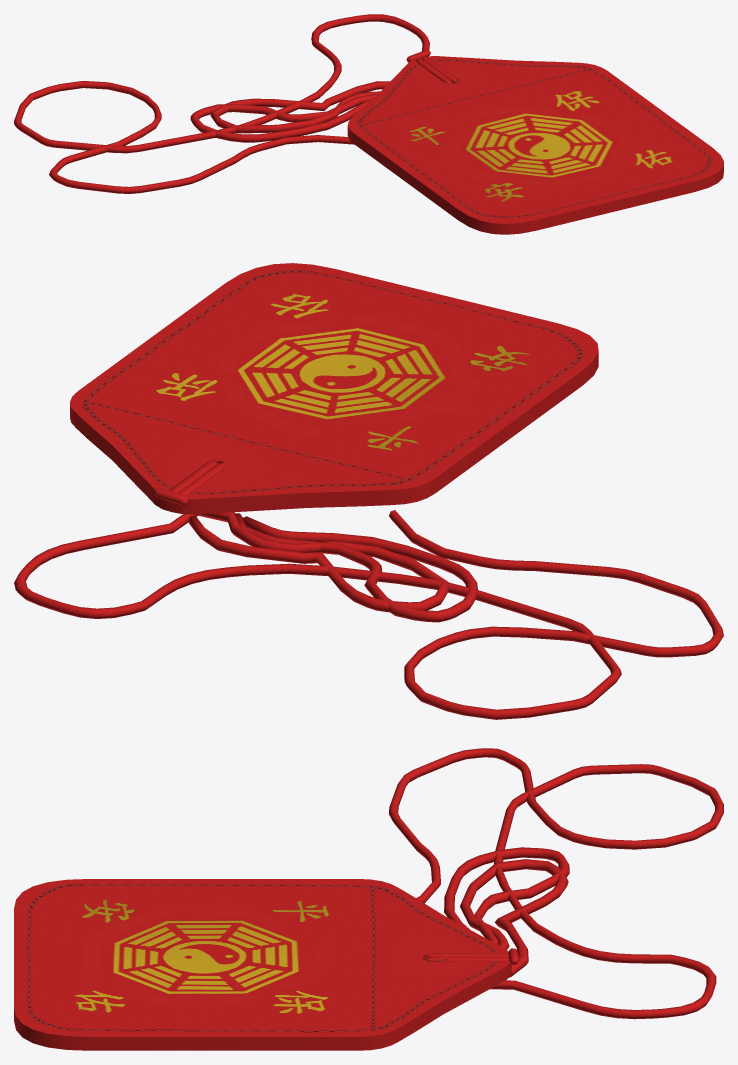
Rendered from amulet.fbx.
The picture shows the model from 3 angles, top to bottom: view 1: azimuth 30°, elevation 25°; view 2: azimuth 150°, elevation 25°; view 3: azimuth 270°, elevation 25°; orthographic projection. The views are drawn at different scales.
Parts seen in each view (by area): view 1: Line001; view 2: Line001; view 3: Line001.
Part boxes in pixels (bbox=[...]): Line001: bbox=[14, 14, 723, 234]; Line001: bbox=[14, 263, 723, 719]; Line001: bbox=[14, 748, 723, 1050].
Size of the model in its own units: 14.68 by 0.8058 by 14.04.
